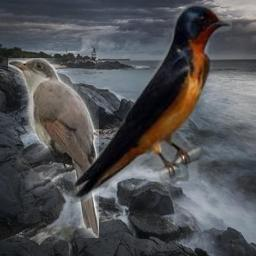Cuckoo: (8, 58, 99, 238)
Swallow: (74, 4, 232, 202)
